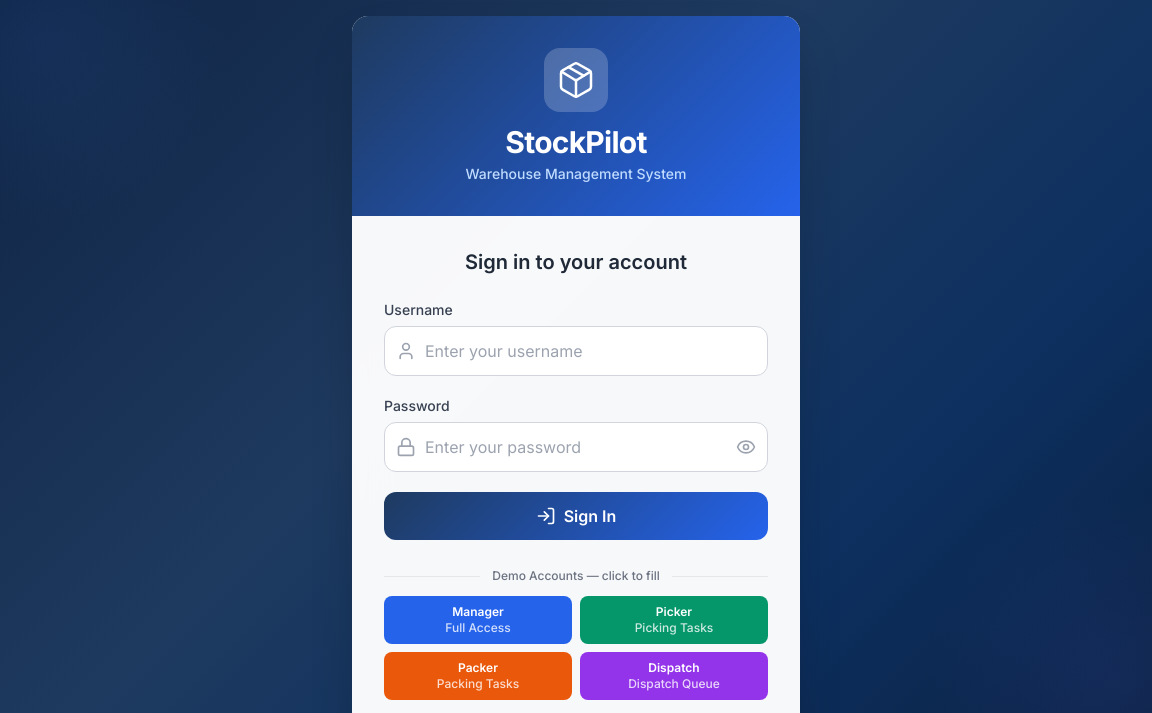
Test: LoginPage › shows validation error when submitted with empty fields
The image size is (1152, 713).
Step 1. Click the button "Sign In" → (576, 516), box [384,492,768,540]
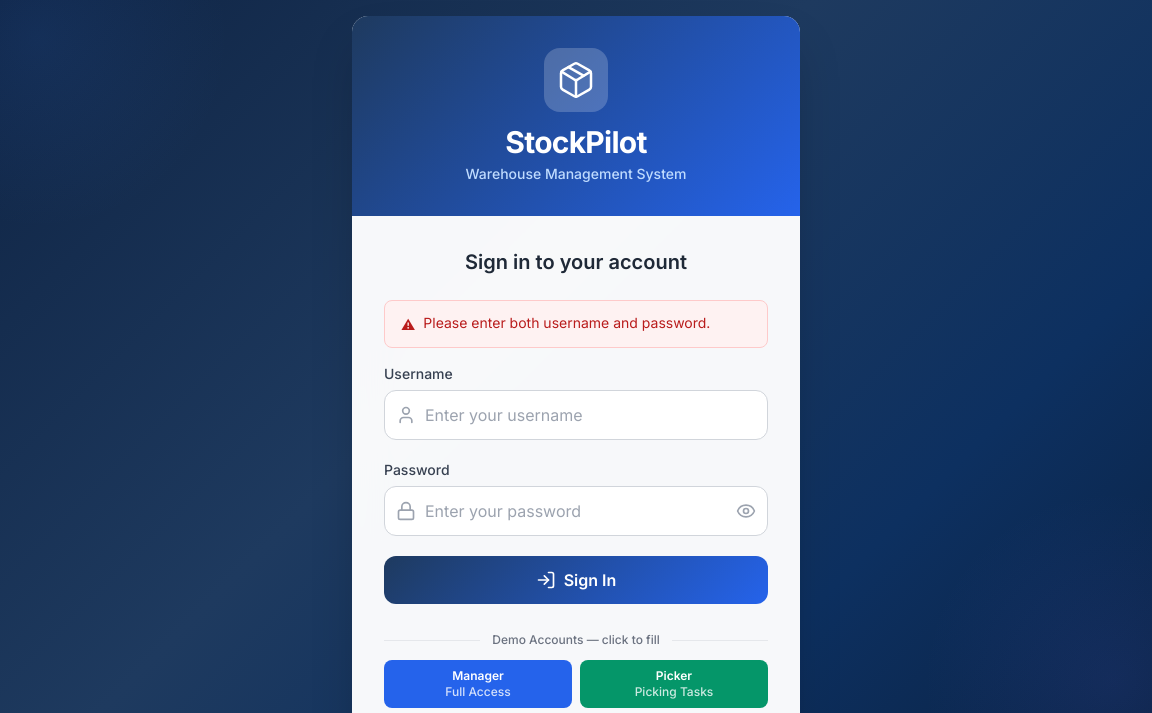
Check: the text "Please enter both username and password." is shown, box [423,313,710,333]
